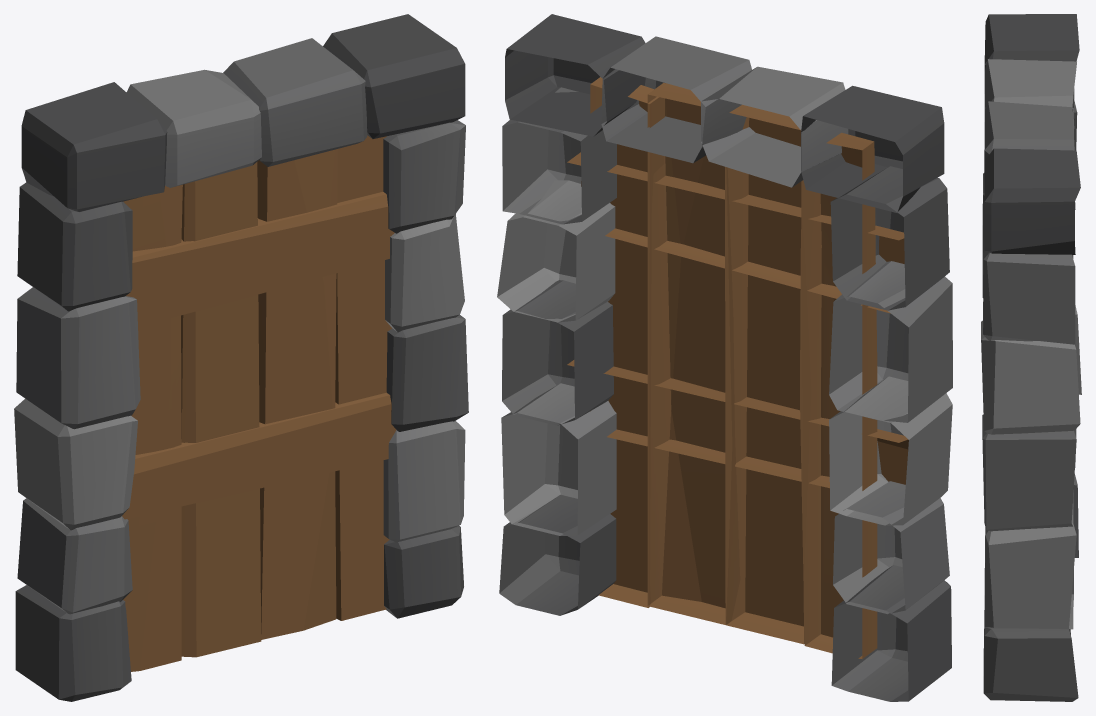
File: House_Gate_A.fbx
3 views of the same model, side by side, from view 1: azimuth 30°, elevation 25°; view 2: azimuth 150°, elevation 25°; view 3: azimuth 270°, elevation 25° (orthographic). The views are drawn at different scales.
Visible parts, largest first — view 1: House_Gate_A; view 2: House_Gate_A; view 3: House_Gate_A.
Part boxes in pixels (x1=…): House_Gate_A: x1=14, y1=14, x2=468, y2=701; House_Gate_A: x1=497, y1=14, x2=952, y2=701; House_Gate_A: x1=981, y1=14, x2=1081, y2=701.
Size of the model in its own units: 145 by 192 by 33.49.
